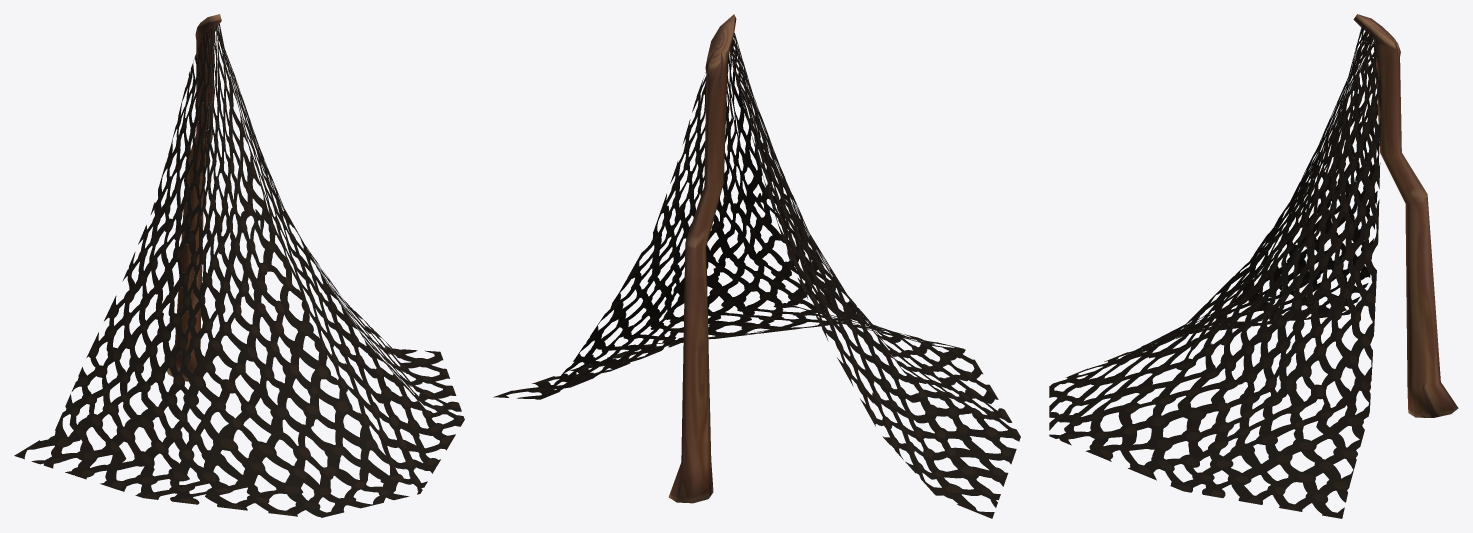
The model's file is SM_FishingNets_02.fbx.
The picture shows the model from 3 angles, left to right: view 1: azimuth 30°, elevation 25°; view 2: azimuth 150°, elevation 25°; view 3: azimuth 270°, elevation 25°; orthographic projection. The views are drawn at different scales.
Visible parts, largest first — view 1: NetFishingStick, NetStick; view 2: NetFishingStick, NetStick; view 3: NetFishingStick, NetStick.
Boxes of the visible parts, box(x1,y1,x2,y2) form: NetFishingStick: box(14, 24, 464, 517); NetStick: box(167, 14, 221, 381); NetFishingStick: box(493, 33, 1020, 518); NetStick: box(669, 14, 736, 503); NetFishingStick: box(1049, 26, 1381, 518); NetStick: box(1353, 14, 1458, 417).
Bounding box in the file's own units: 348 × 301 × 280.
